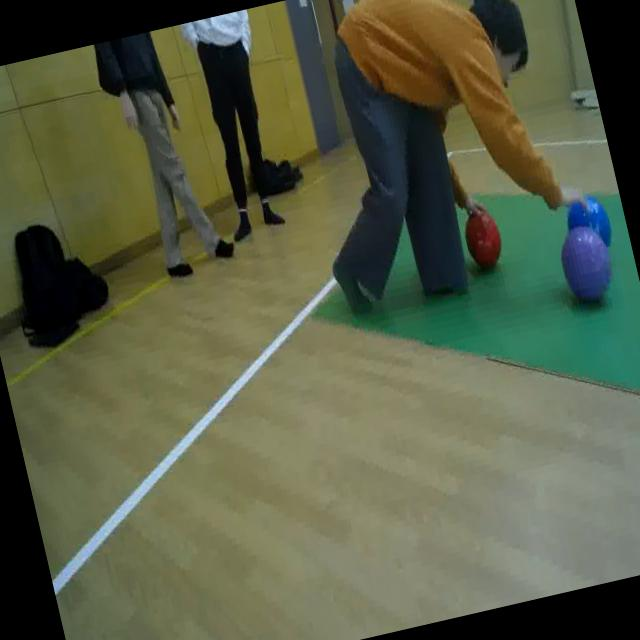blue_ball: (561, 188, 618, 257)
purple_ball: (550, 217, 624, 313)
red_ball: (458, 200, 511, 274)
